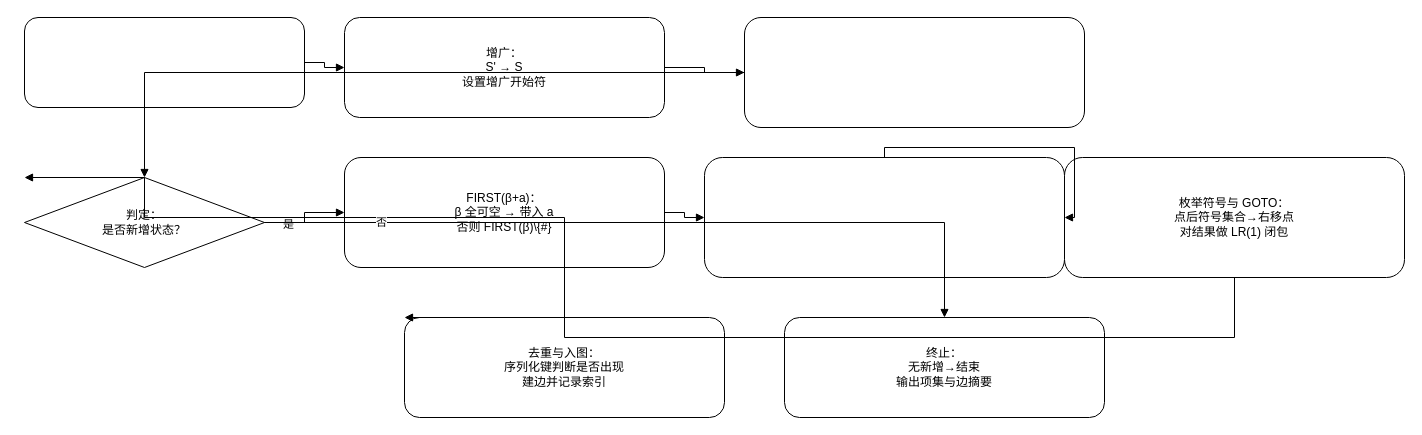
The diagram is 1422 pixels wide and 435 high, and some of its shapes have lost their labels. Each missing label, with the centre of its shape:
"初始闭包： I0 = closureLL1({S'→•S / $}) 加入为首个状态" goes at (x=914, y=72).
"开始： 输入 Grammar 初始前瞻 $" goes at (x=164, y=62).
"闭包（LR(1)）： A→α•Bβ / a 对 a'∈FIRST(β+a) 展开 B→•γ / a'" goes at (x=884, y=217).
